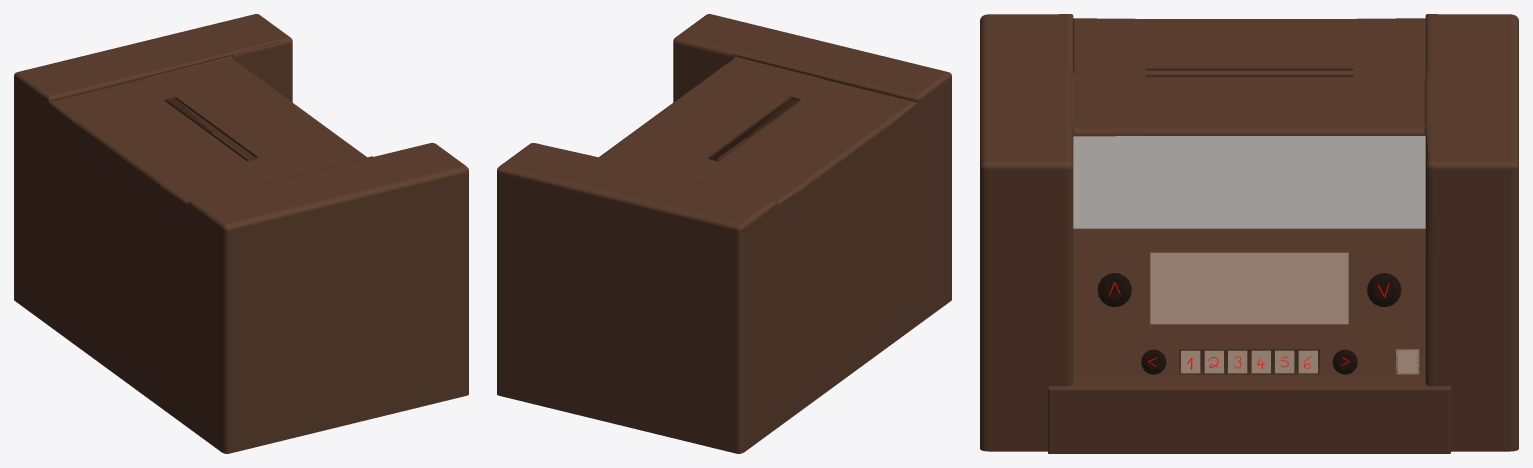
Rendered from radio.fbx.
The picture shows the model from 3 angles, left to right: view 1: azimuth 30°, elevation 25°; view 2: azimuth 150°, elevation 25°; view 3: azimuth 270°, elevation 25°; orthographic projection. The views are drawn at different scales.
Parts seen in each view (by area): view 1: Rádio; view 2: Rádio; view 3: Rádio, Botão grande 1, Botão grande 2, Botão Quadrado 5, Botão Quadrado 3, Botão Quadrado 4, Botão Quadrado 2, Botão Quadrado 6, Botão Quadrado singular, Botão Quadrado 1.
Boxes of the visible parts, left/top/right/bottom form: Rádio: left=14, top=14, right=468, bottom=453; Rádio: left=497, top=14, right=951, bottom=453; Rádio: left=980, top=14, right=1518, bottom=453; Botão grande 1: left=1367, top=273, right=1401, bottom=306; Botão grande 2: left=1097, top=273, right=1131, bottom=307; Botão Quadrado 5: left=1273, top=349, right=1296, bottom=374; Botão Quadrado 3: left=1226, top=349, right=1249, bottom=374; Botão Quadrado 4: left=1249, top=349, right=1272, bottom=374; Botão Quadrado 2: left=1202, top=349, right=1225, bottom=374; Botão Quadrado 6: left=1296, top=349, right=1319, bottom=374; Botão Quadrado singular: left=1396, top=349, right=1419, bottom=374; Botão Quadrado 1: left=1179, top=349, right=1202, bottom=374.
Size of the model in its own units: 203 by 177 by 300.
Materials: 25 (10 with a texture image).
